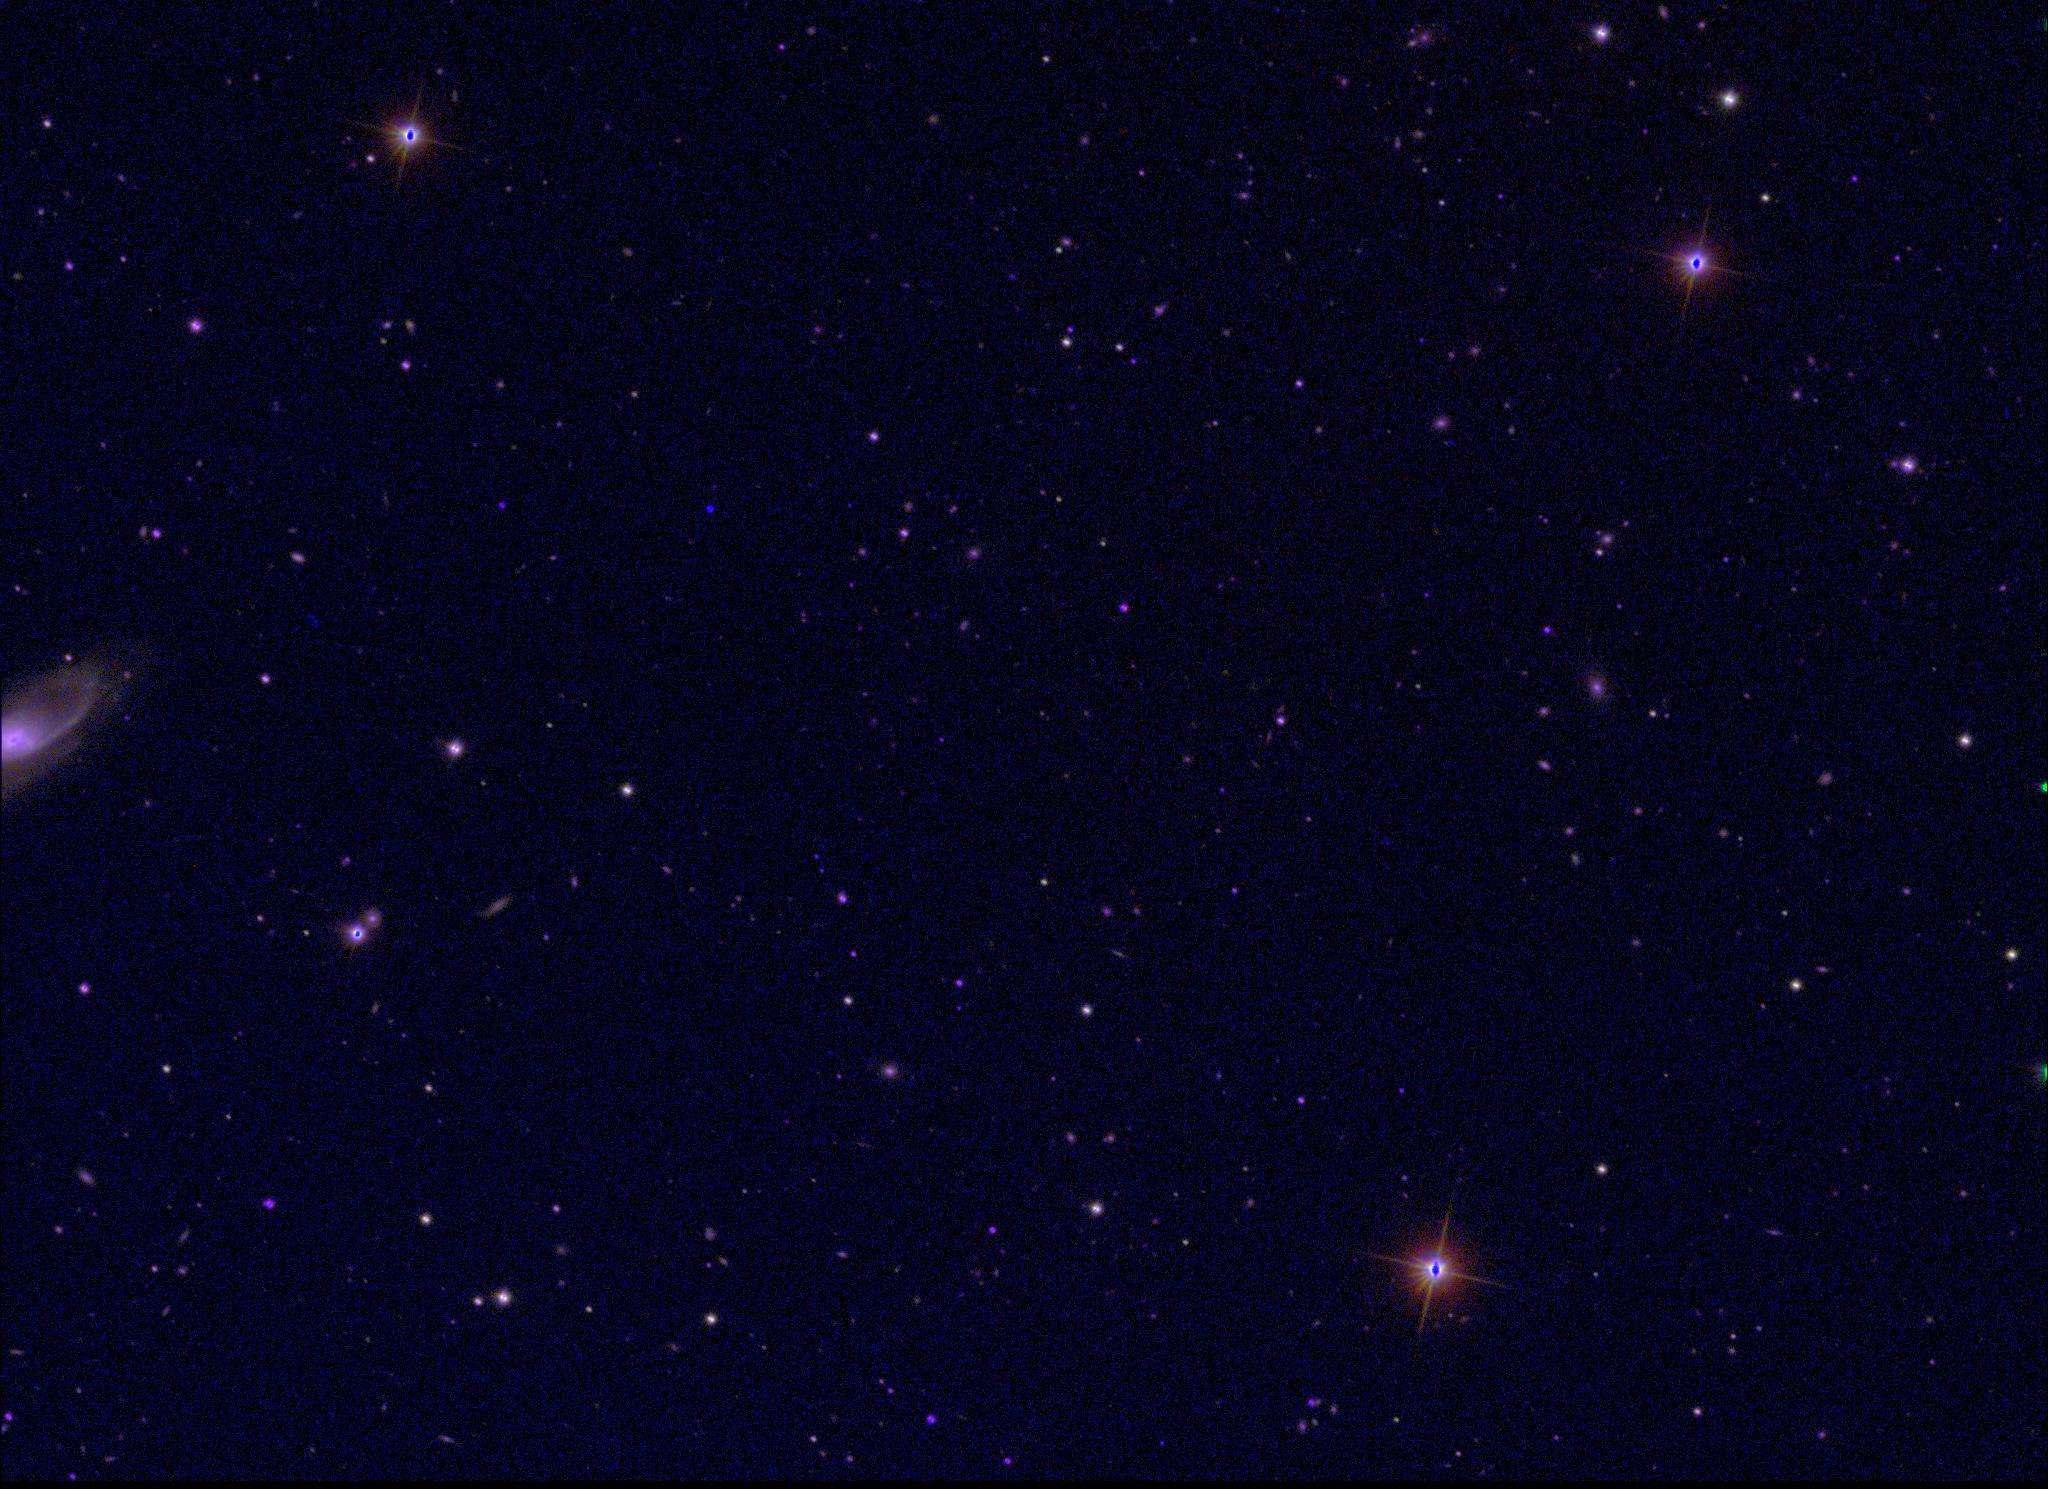L: (704, 503, 719, 515)
